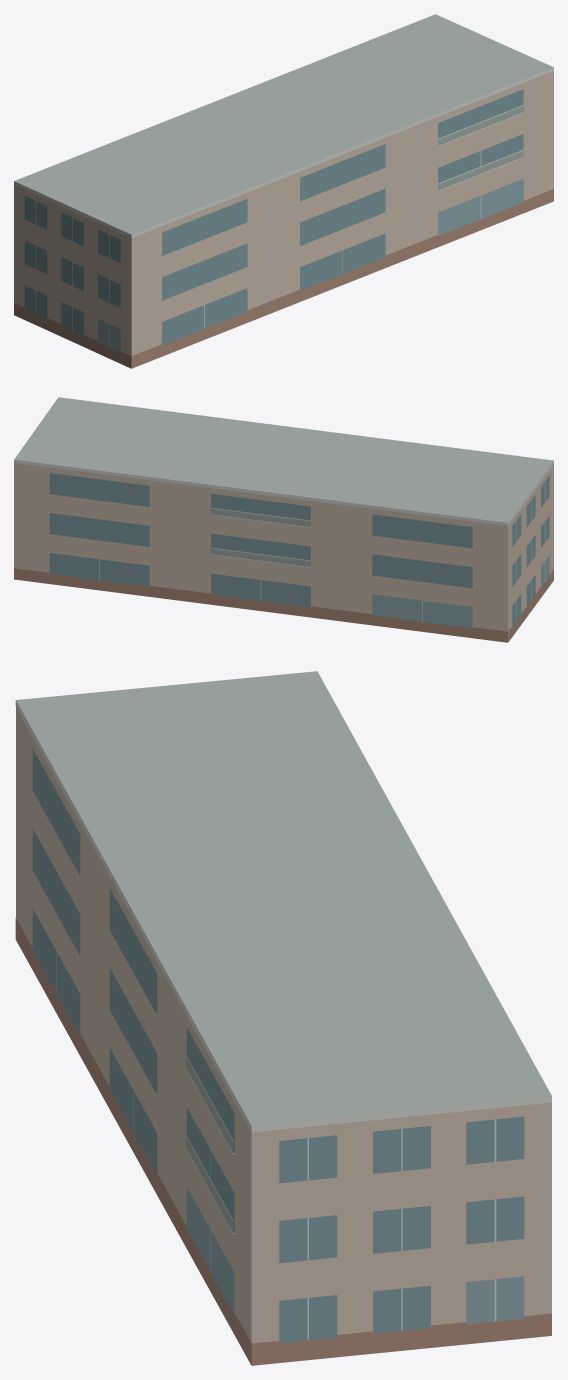
Rendered from survey-upis-32623734.glb.
The picture shows the model from 3 angles, top to bottom: view 1: azimuth 30°, elevation 25°; view 2: azimuth 150°, elevation 25°; view 3: azimuth 270°, elevation 25°; orthographic projection. The views are drawn at different scales.
Parts seen in each view (by area): view 1: survey-upis-32623734.tmp; view 2: survey-upis-32623734.tmp; view 3: survey-upis-32623734.tmp.
Boxes of the visible parts, left/top/right/bottom form: survey-upis-32623734.tmp: left=14, top=14, right=553, bottom=368; survey-upis-32623734.tmp: left=14, top=397, right=553, bottom=642; survey-upis-32623734.tmp: left=15, top=671, right=551, bottom=1365.
Bounding box in the file's own units: 37.25 × 9.15 × 18.56.
